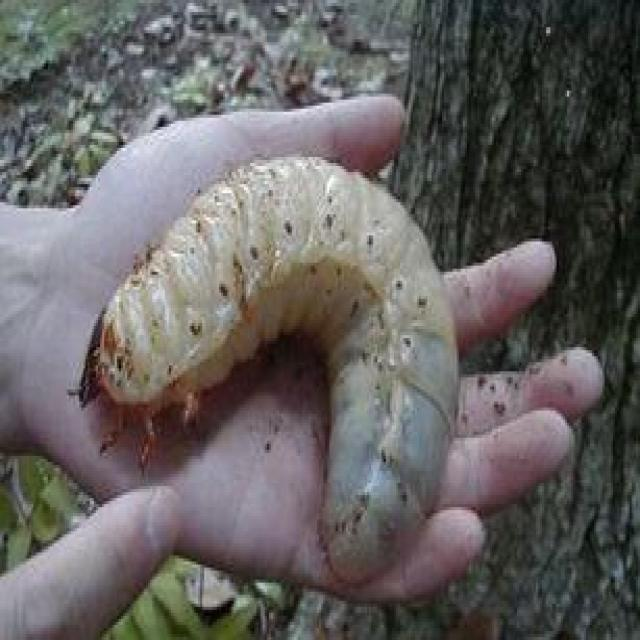Grub-Adult-: (72, 146, 466, 583)
